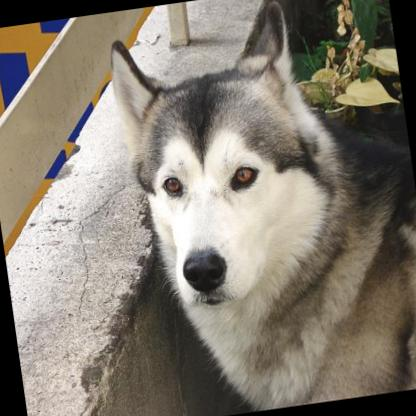Eskimo_dog: (100, 0, 416, 416)
